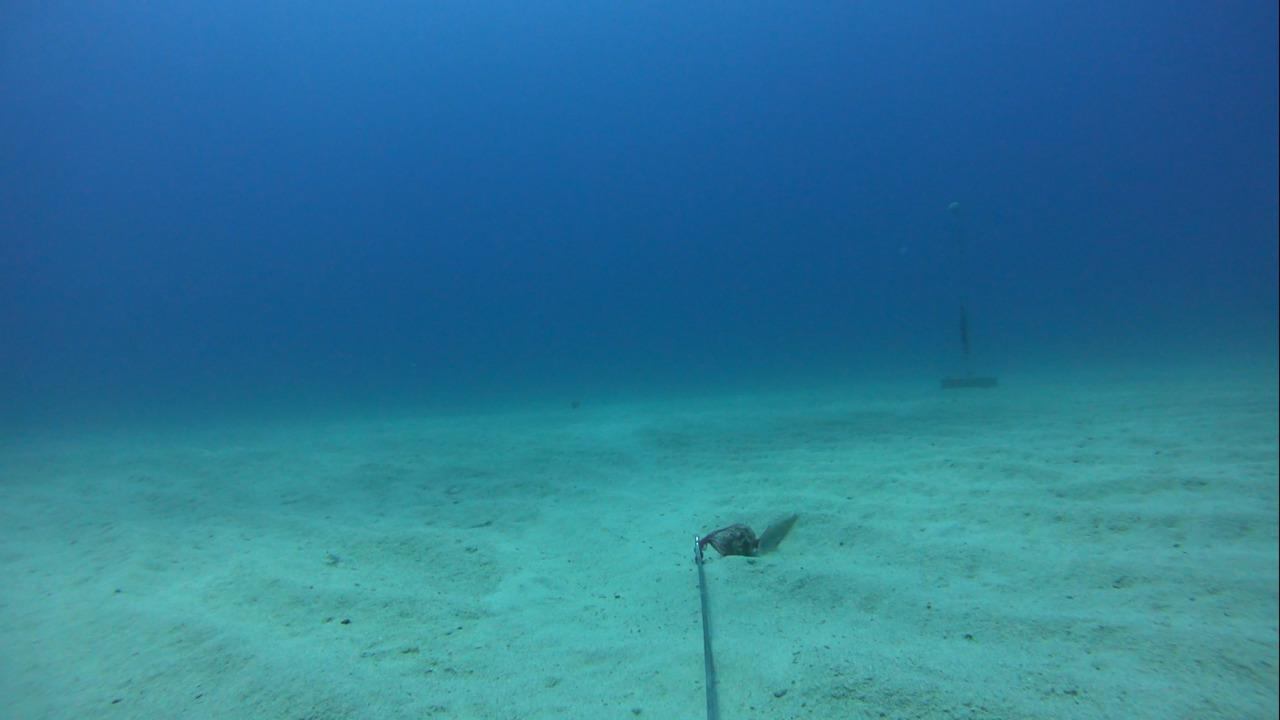raor: (755, 510, 803, 553)
